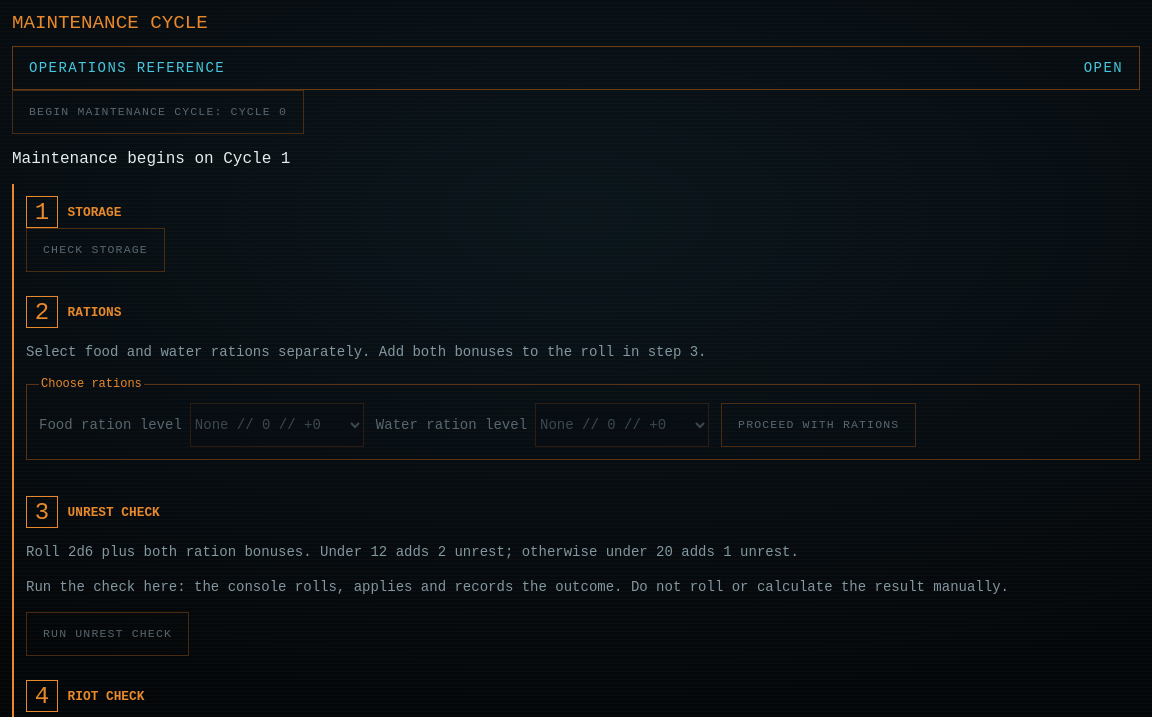
it: keeps reference access available offline and before gameplay begins
Expected: the button "Run unrest check" is disabled, left=26, top=612, right=189, bottom=656
Expected: the message reads "Maintenance begins on Cycle 1", left=12, top=150, right=290, bottom=168
Click the button "Operations reference Open" at point(127, 68), box left=12, top=46, right=1140, bottom=90
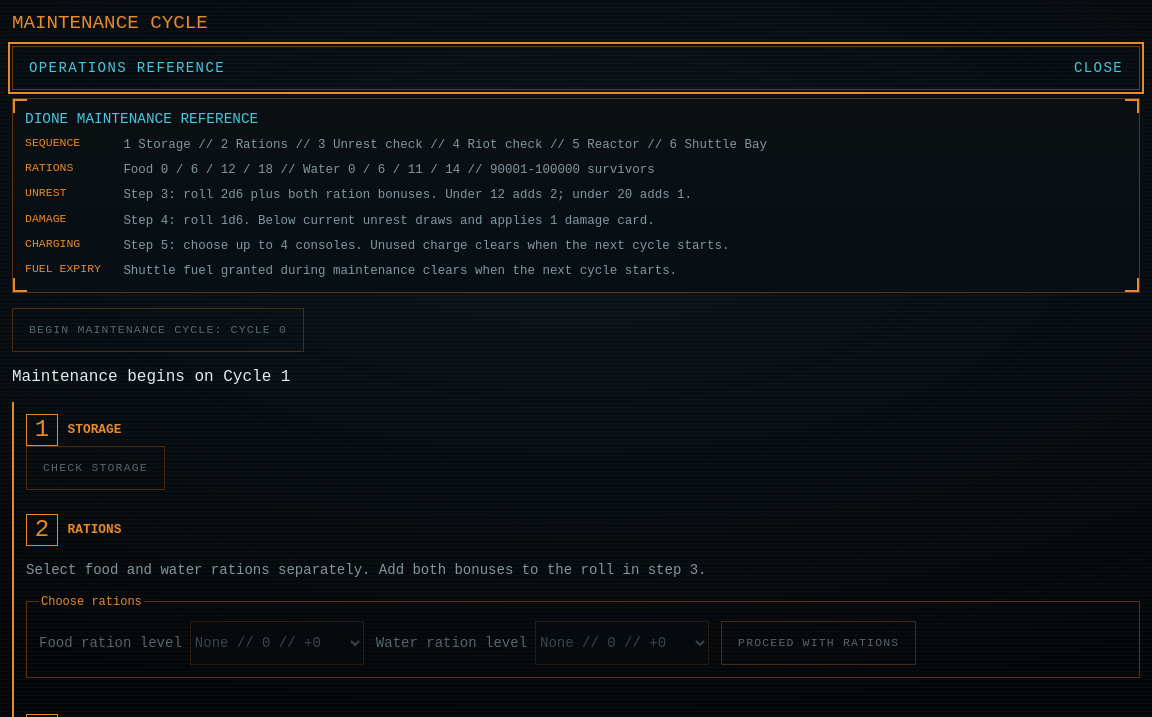
Expected: the element "Dione maintenance reference" is shown, left=12, top=98, right=1140, bottom=293
